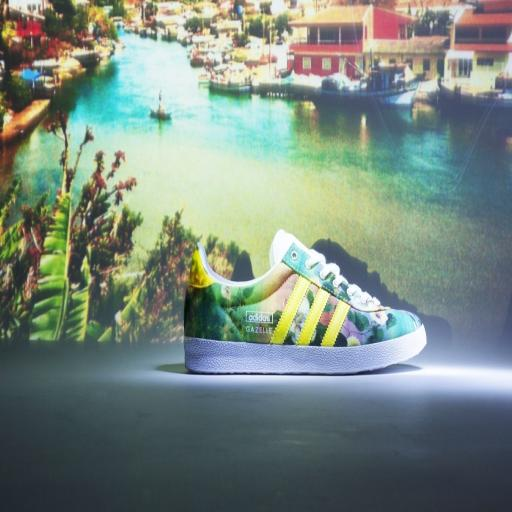shoe: (184, 230, 426, 374)
